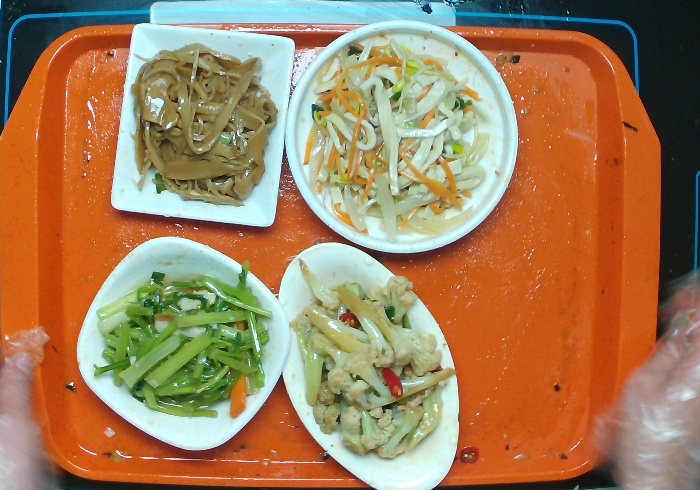HZYJPL-Si_Fang_Die: (100, 17, 303, 235)
HZYJPL-Si_Fang_Yuan_Die: (73, 230, 295, 454)
HZYJPL-Xiao_Yu_Die: (270, 239, 467, 489)
HZYJPL-Xiao_Yuan_Die: (283, 13, 523, 261)
